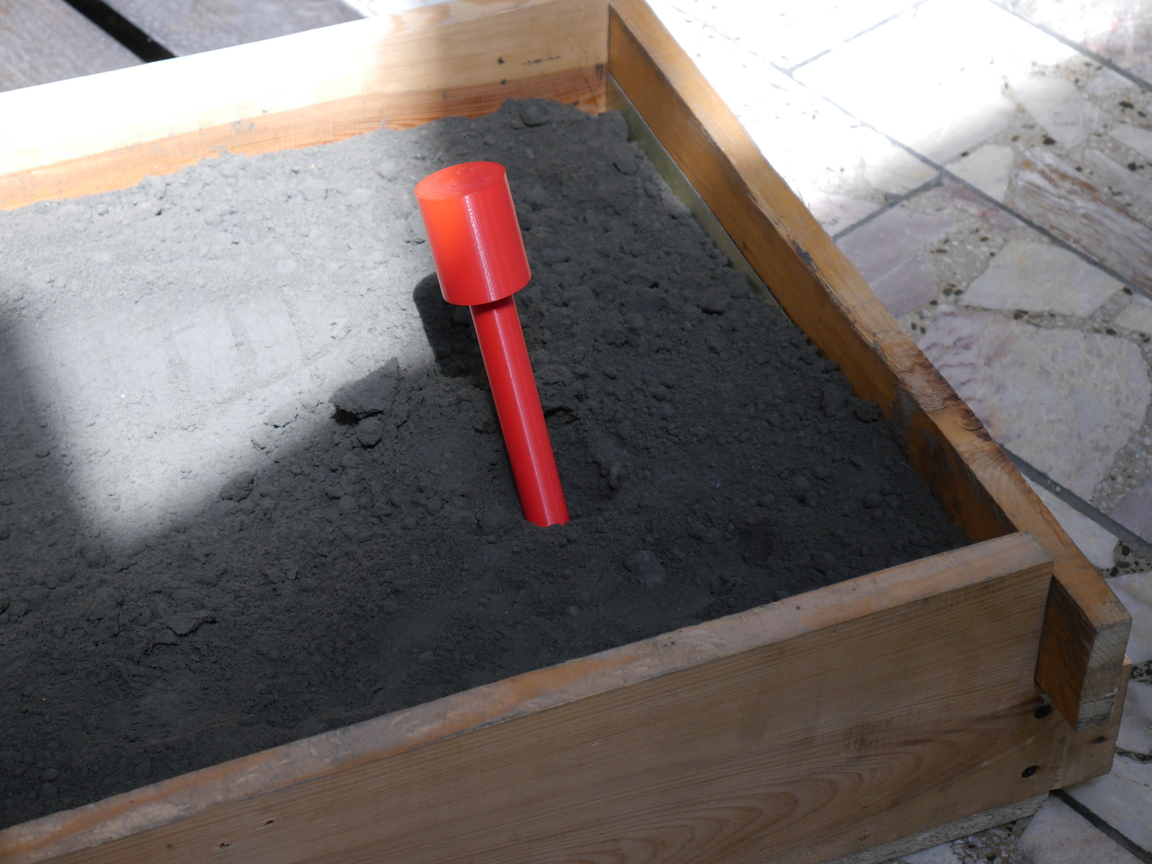cargo_g: (417, 163, 574, 527)
